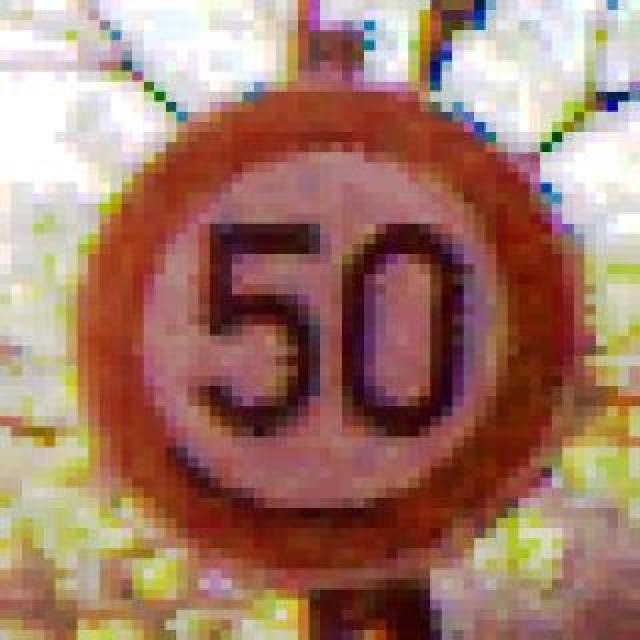50 kph: (44, 72, 584, 580)
